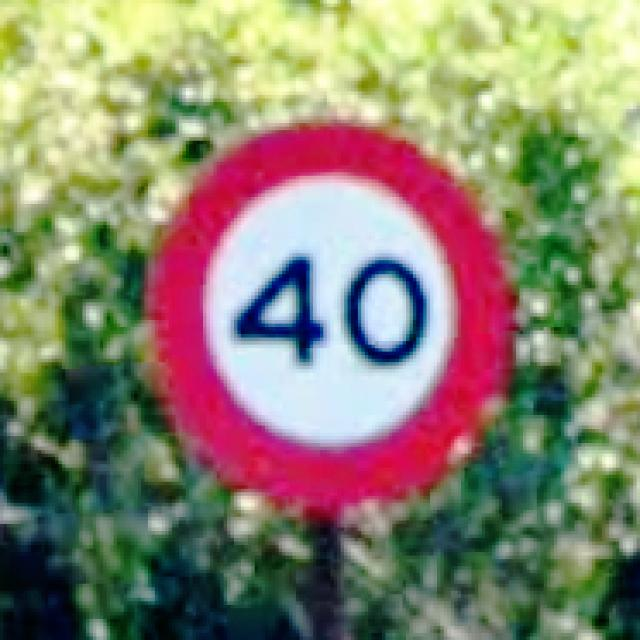max40: (138, 109, 520, 517)
